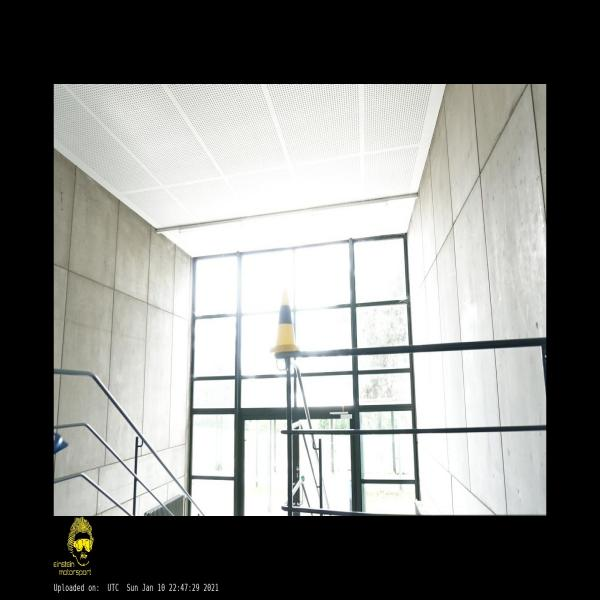yellow_cone: (270, 290, 298, 352)
